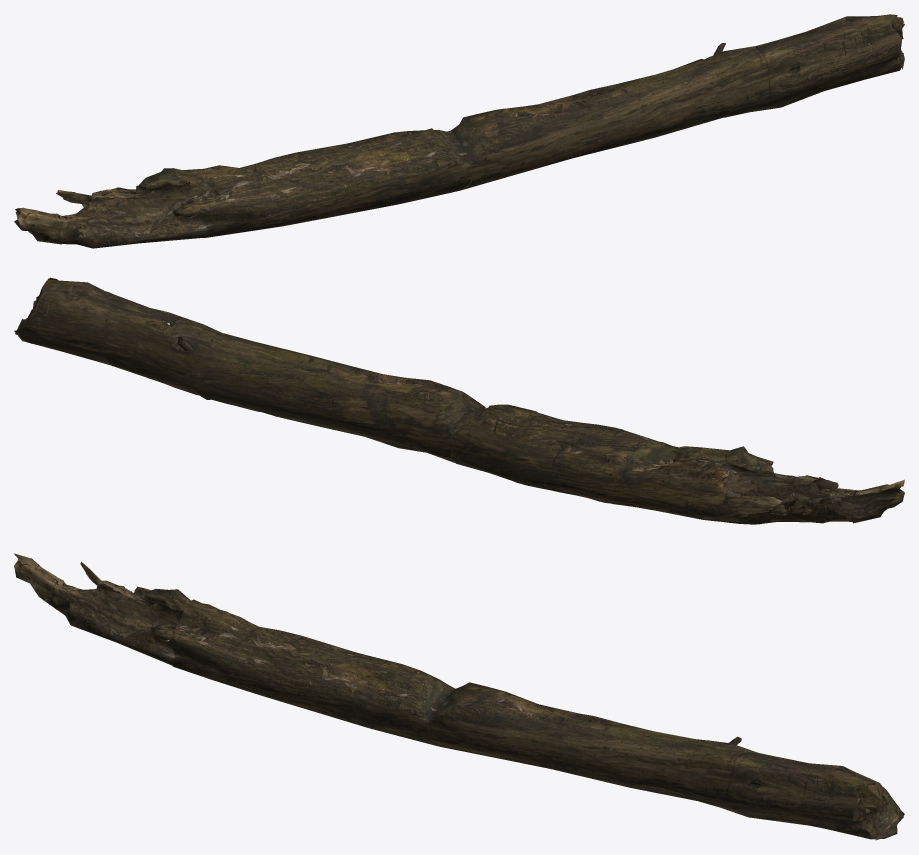
Rendered from dead_tree.glb.
The picture shows the model from 3 angles, top to bottom: view 1: azimuth 30°, elevation 25°; view 2: azimuth 150°, elevation 25°; view 3: azimuth 330°, elevation 25°; orthographic projection.
Visible parts, largest first — view 1: dead_tree_trunk; view 2: dead_tree_trunk; view 3: dead_tree_trunk.
Part boxes in pixels (<box>): dead_tree_trunk: <box>14,14,904,248</box>; dead_tree_trunk: <box>14,277,904,524</box>; dead_tree_trunk: <box>14,553,904,840</box>.
Bounding box in the file's own units: 3.05 × 0.2906 × 0.2753.
1 material, 1 textured.
